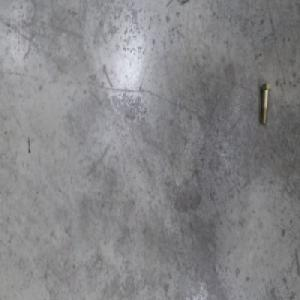Bolt: (258, 82, 270, 125)
